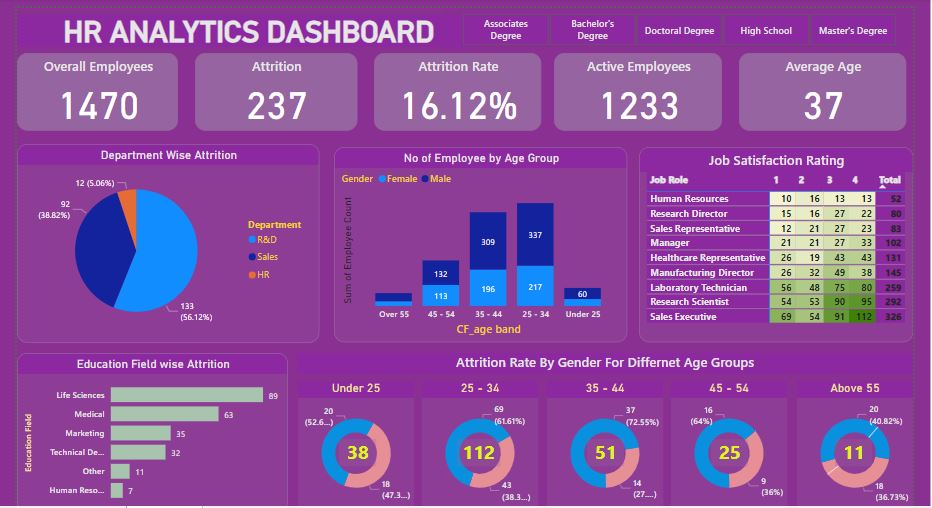

Layout of this report page (visuals, bound fields, positions):
{"tool":"powerbi","page":{"name":"Page 1","canvas":[1280,720],"ordinal":0},"visuals":[{"type":"card","title":"Attrition","fields":{"Values":["Sum(HR data.Attrition Column)"]},"box":[254.9,64.8,231.8,110.9],"z":0},{"type":"card","title":"Overall Employees","fields":{"Values":["Sum(HR data.Employee Count)"]},"box":[0,64.8,230.4,110.9],"z":1000},{"type":"card","title":"Attrition Rate","fields":{"Values":["HR data.Attrition Rate"]},"box":[509.8,64.8,239,110.9],"z":2000},{"type":"card","title":"Active Employees","fields":{"Values":["HR data.Active Employees"]},"box":[767.5,64.8,240.5,110.9],"z":3000},{"type":"card","title":"Average Age","fields":{"Values":["Avg(HR data.Age)"]},"box":[1031,64.8,239,110.9],"z":4000},{"type":"pieChart","title":"Department Wise Attrition ","fields":{"Category":["HR data.Department"],"Y":["Sum(HR data.Attrition Count)"]},"box":[0,194.4,432,283.7],"z":5000},{"type":"columnChart","title":"No of Employee by Age Group","fields":{"Category":["HR data.CF_age band"],"Y":["Sum(HR data.Employee Count)"],"Series":["HR data.Gender"]},"box":[452.2,198.7,419,279.4],"z":6000},{"type":"pivotTable","title":"Job Satisfaction Rating","fields":{"Rows":["HR data.Job Role"],"Columns":["HR data.Job Satisfaction"],"Values":["Sum(HR data.Employee Count)"]},"box":[888.5,198.7,391.7,279.4],"z":7000},{"type":"barChart","title":"Education Field wise Attrition","fields":{"Category":["HR data.Education Field"],"Y":["Sum(HR data.Attrition Count)"]},"box":[0,492.5,387.4,227.5],"z":8000},{"type":"donutChart","title":"Under 25","fields":{"Y":["Sum(HR data.Attrition Count)"],"Category":["HR data.Gender"],"Series":["HR data.CF_age band"]},"box":[401.8,532.8,166,187.2],"z":9000},{"type":"textbox","title":"Attrition Rate By Gender For Differnet Age Groups","box":[400.3,492.5,879.8,30.2],"z":10000},{"type":"donutChart","title":"35 - 44","fields":{"Y":["Sum(HR data.Attrition Count)"],"Category":["HR data.Gender"],"Series":["HR data.CF_age band"]},"box":[757.4,532.8,165.6,187.2],"z":11000},{"type":"donutChart","title":"45 - 54","fields":{"Y":["Sum(HR data.Attrition Count)"],"Category":["HR data.Gender"],"Series":["HR data.CF_age band"]},"box":[934.6,532.8,165.6,187.2],"z":12000},{"type":"donutChart","title":"25 - 34","fields":{"Y":["Sum(HR data.Attrition Count)"],"Category":["HR data.Gender"],"Series":["HR data.CF_age band"]},"box":[578.9,532.8,165.6,187.2],"z":13000},{"type":"donutChart","title":"Above 55","fields":{"Y":["Sum(HR data.Attrition Count)"],"Category":["HR data.Gender"],"Series":["HR data.CF_age band"]},"box":[1114.6,532.8,165.6,187.2],"z":14000},{"type":"card","fields":{"Values":["Sum(HR data.Attrition Count)"]},"box":[459.4,616.3,53.3,38.9],"z":15000},{"type":"card","fields":{"Values":["Sum(HR data.Attrition Count)"]},"box":[990.7,616.3,53.3,38.9],"z":16000},{"type":"card","fields":{"Values":["Sum(HR data.Attrition Count)"]},"box":[813.6,616.3,53.3,38.9],"z":17000},{"type":"card","fields":{"Values":["Sum(HR data.Attrition Count)"]},"box":[629.3,616.3,61.9,38.9],"z":18000},{"type":"card","fields":{"Values":["Sum(HR data.Attrition Count)"]},"box":[1169.3,616.3,53.3,38.9],"z":19000},{"type":"textbox","title":"HR ANALYTICS DASHBOARD","box":[0,10.1,662.4,44.6],"z":20000},{"type":"slicer","fields":{"Values":["HR data.Education"]},"box":[612,1.4,668,57],"z":21000}]}

Visuals, with their boxes on the page's 1280x720 design canvas (x1, y1, x2, y2). These are canvas units, not pixel positions in the 932x508 screenshot, which may show the page scaled, cropped or inside an application window:
"Attrition" card: left=255, top=65, right=487, bottom=176
"Overall Employees" card: left=0, top=65, right=230, bottom=176
"Attrition Rate" card: left=510, top=65, right=749, bottom=176
"Active Employees" card: left=768, top=65, right=1008, bottom=176
"Average Age" card: left=1031, top=65, right=1270, bottom=176
"Department Wise Attrition " pieChart: left=0, top=194, right=432, bottom=478
"No of Employee by Age Group" columnChart: left=452, top=199, right=871, bottom=478
"Job Satisfaction Rating" pivotTable: left=888, top=199, right=1280, bottom=478
"Education Field wise Attrition" barChart: left=0, top=492, right=387, bottom=720
"Under 25" donutChart: left=402, top=533, right=568, bottom=720
"Attrition Rate By Gender For Differnet Age Groups" textbox: left=400, top=492, right=1280, bottom=523
"35 - 44" donutChart: left=757, top=533, right=923, bottom=720
"45 - 54" donutChart: left=935, top=533, right=1100, bottom=720
"25 - 34" donutChart: left=579, top=533, right=744, bottom=720
"Above 55" donutChart: left=1115, top=533, right=1280, bottom=720
card - Sum(HR data.Attrition Count): left=459, top=616, right=513, bottom=655
card - Sum(HR data.Attrition Count): left=991, top=616, right=1044, bottom=655
card - Sum(HR data.Attrition Count): left=814, top=616, right=867, bottom=655
card - Sum(HR data.Attrition Count): left=629, top=616, right=691, bottom=655
card - Sum(HR data.Attrition Count): left=1169, top=616, right=1223, bottom=655
"HR ANALYTICS DASHBOARD" textbox: left=0, top=10, right=662, bottom=55
slicer - HR data.Education: left=612, top=1, right=1280, bottom=58
